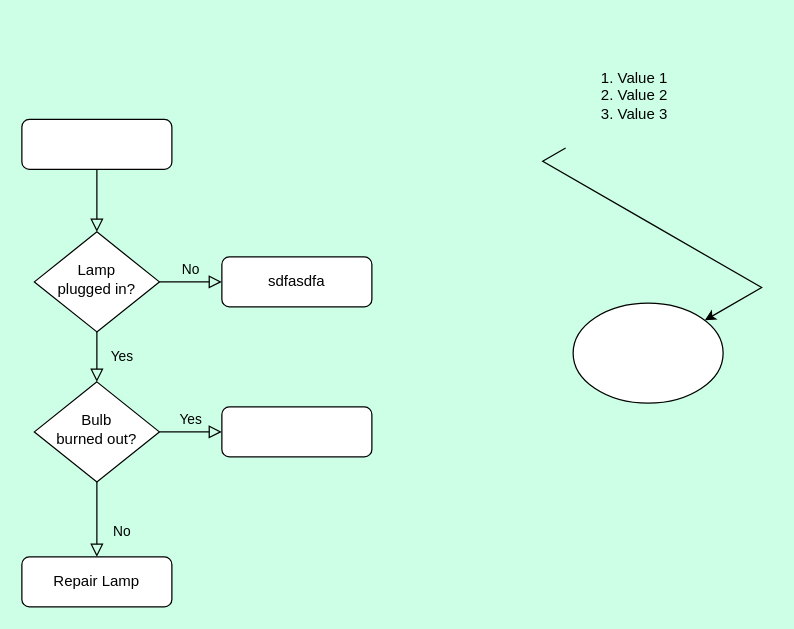
Image size: 794x629. Some labels were removed from this diagram. The shapes that lost their labels are listed below. From the top down, each one's box as (x1, y1, x2, y2) in pixels, then its label:
(21, 118, 172, 169): Lamp doesn't work
(221, 406, 372, 457): Replace Bulb
